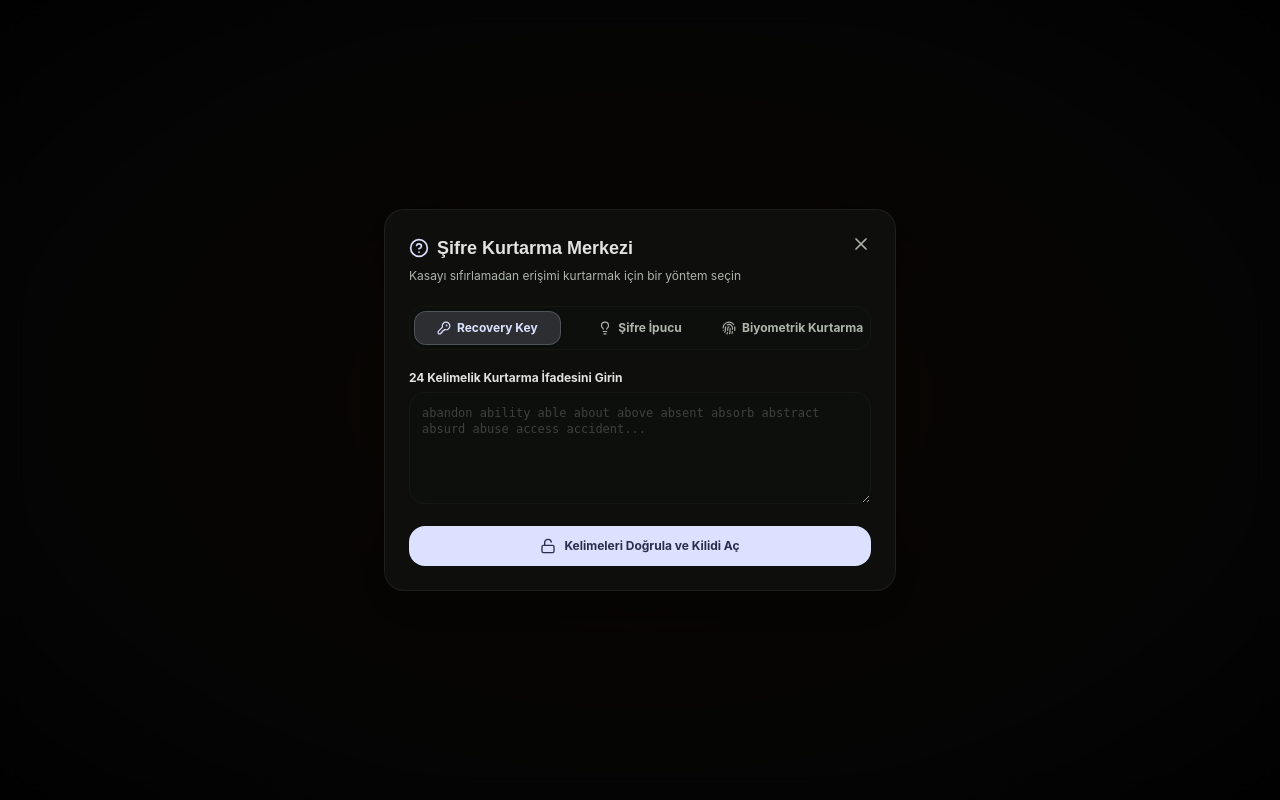
Test: LockScreenRecoveryModal › surfaces recovery key decryption failures
Replace the text in the text box with test id "lock-recovery-words-input" with "word1 word2 word3 word4 word5 word6 word7 word8 word9 word10 word11 word12": (640, 448) [409, 392, 871, 504]
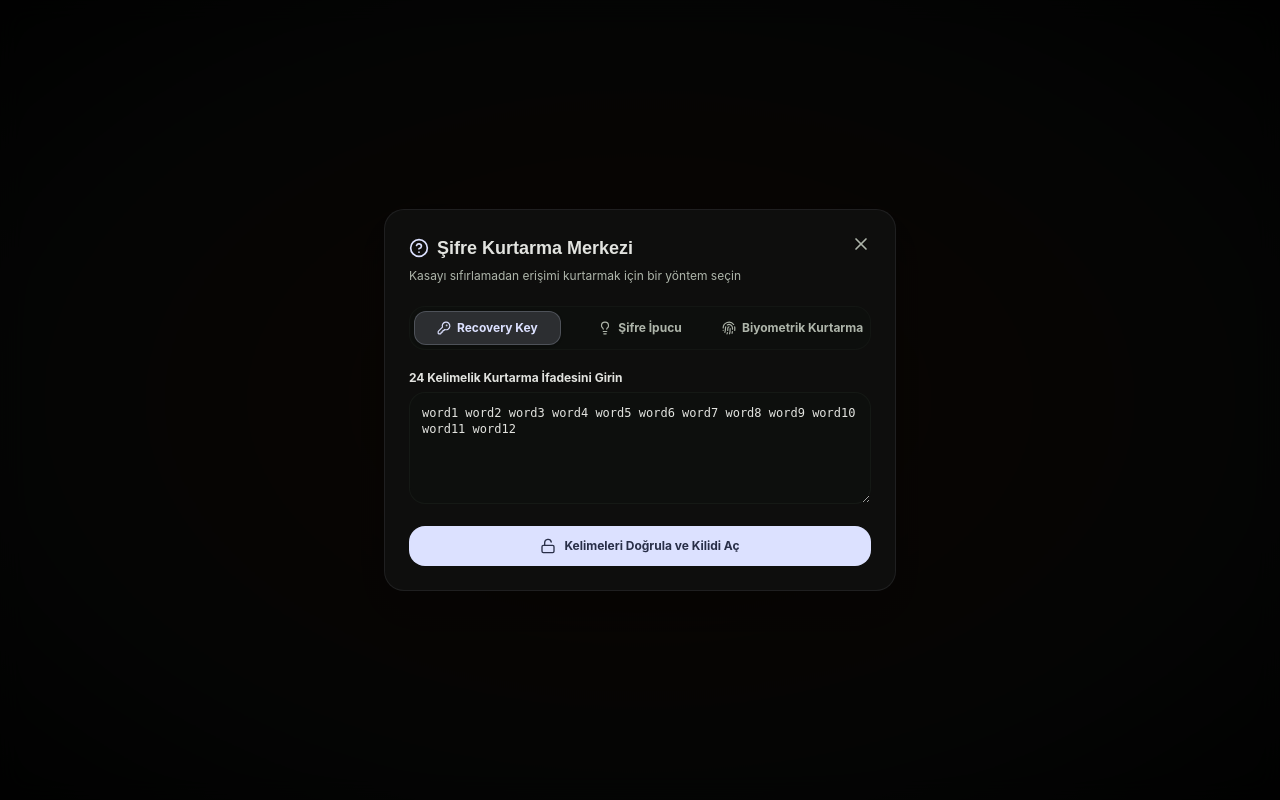
Click the button with test id "lock-recovery-submit-button": (640, 546) [409, 526, 871, 566]
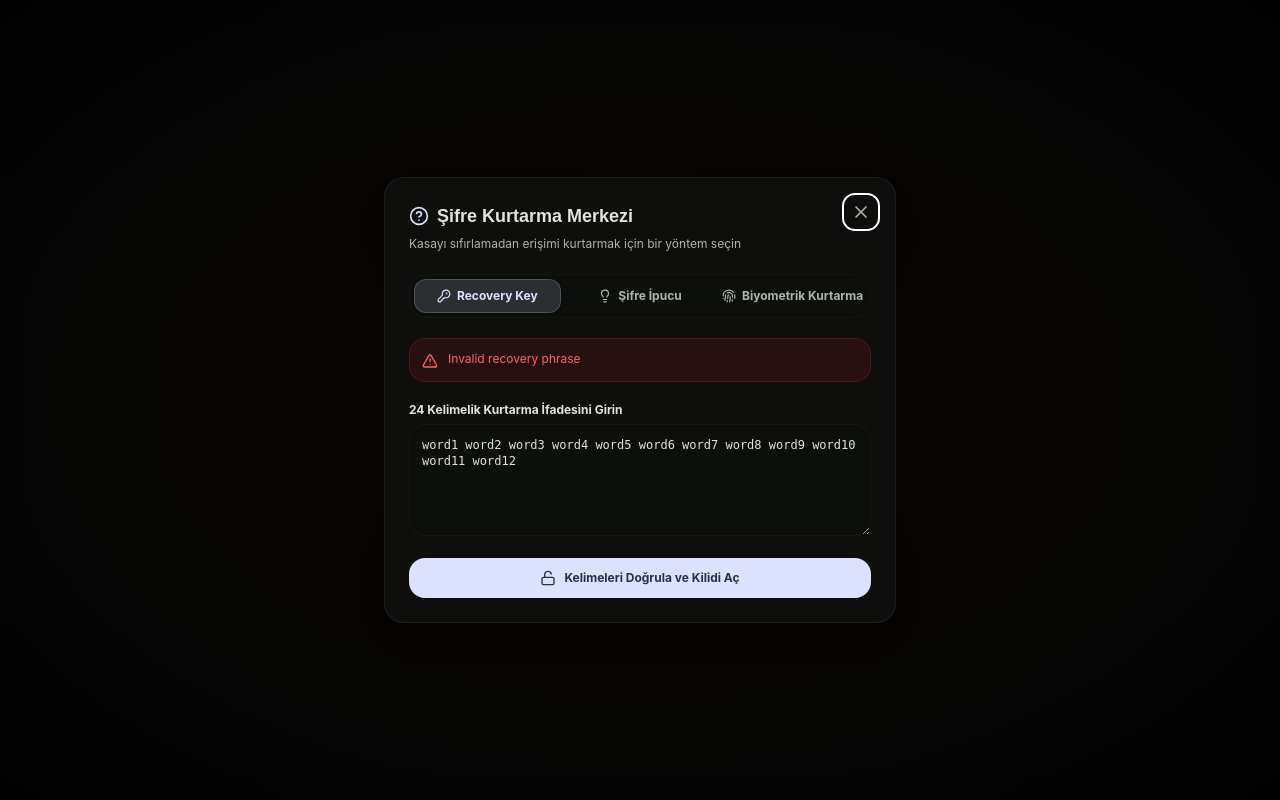
Now the element with test id "lock-recovery-error" reads "Invalid recovery phrase", box [448, 351, 581, 366]
